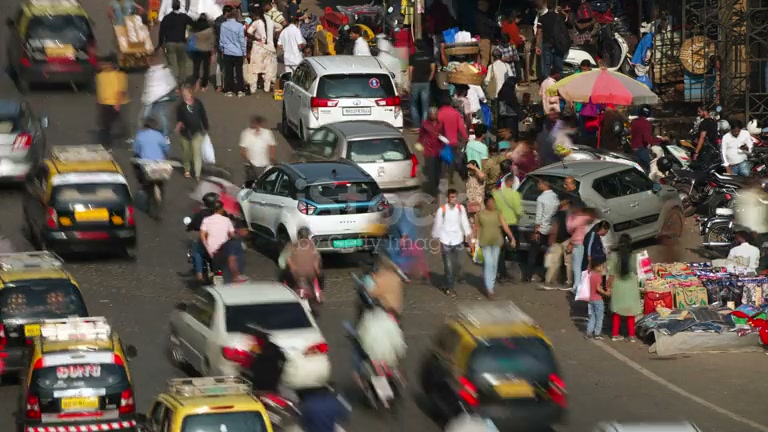car: (417, 301, 569, 430), (166, 280, 333, 391), (236, 160, 395, 265), (15, 319, 138, 430), (22, 144, 138, 260), (522, 159, 666, 246), (0, 250, 90, 379), (279, 54, 404, 145), (303, 119, 422, 192), (141, 375, 276, 432), (7, 13, 99, 94), (0, 71, 48, 186)
motorcycle: (342, 302, 410, 417), (133, 158, 173, 222)
pedestrian: (342, 250, 410, 391), (430, 187, 473, 295), (472, 192, 515, 300), (608, 231, 643, 342), (172, 83, 210, 182), (282, 226, 325, 309), (94, 52, 130, 148), (198, 200, 238, 284), (238, 114, 278, 188), (721, 115, 755, 175)
